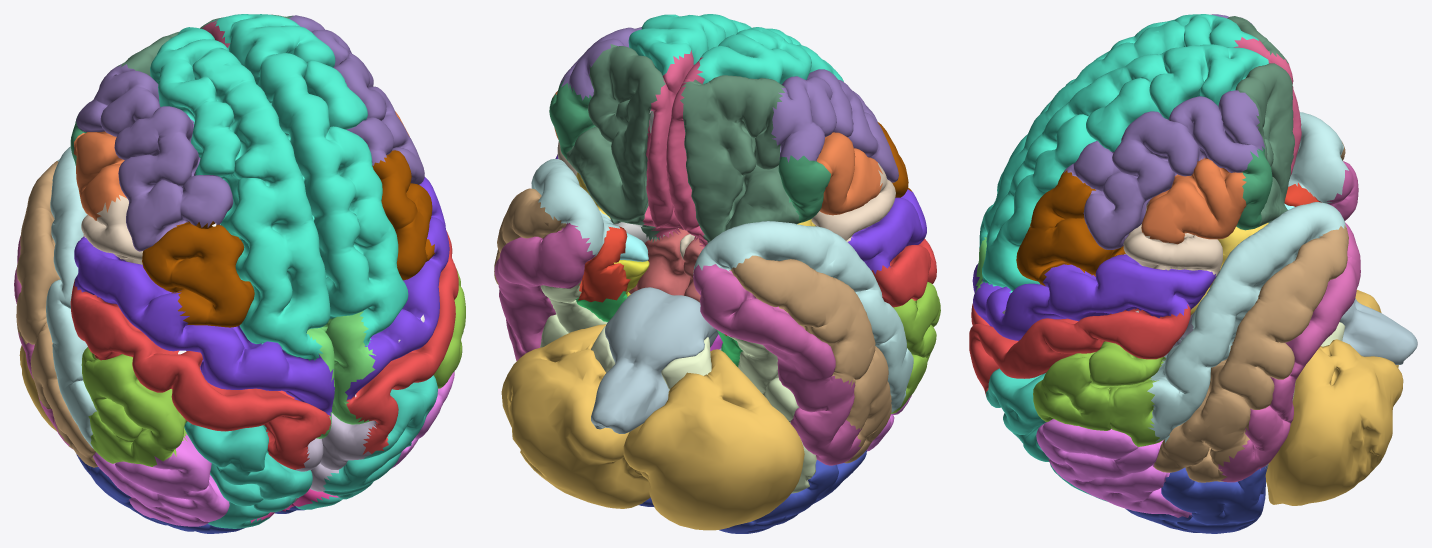
The model's file is brain.glb.
The picture shows the model from 3 angles, left to right: view 1: azimuth 30°, elevation 25°; view 2: azimuth 150°, elevation 25°; view 3: azimuth 270°, elevation 25°; orthographic projection.
Parts seen in each view (by area): view 1: ctx-lh-superiorfrontal, ctx-rh-superiorfrontal, ctx-lh-rostralmiddlefrontal, ctx-lh-precentral, ctx-lh-postcentral, ctx-lh-caudalmiddlefrontal, ctx-lh-supramarginal, ctx-lh-middletemporal, ctx-lh-superiorparietal, ctx-lh-superiortemporal, ctx-lh-inferiorparietal, ctx-rh-postcentral (+15 smaller); view 2: Left-Cerebellum-Cortex, Right-Cerebellum-Cortex, ctx-lh-lateralorbitofrontal, ctx-lh-inferiortemporal, ctx-lh-middletemporal, ctx-rh-lateralorbitofrontal, Brain-Stem, ctx-lh-superiortemporal, ctx-lh-rostralmiddlefrontal, ctx-rh-inferiortemporal, ctx-lh-superiorfrontal, ctx-rh-superiorfrontal (+24 smaller); view 3: ctx-rh-superiorfrontal, ctx-rh-middletemporal, Right-Cerebellum-Cortex, ctx-rh-rostralmiddlefrontal, ctx-rh-superiortemporal, ctx-rh-precentral, ctx-rh-postcentral, ctx-rh-supramarginal, ctx-rh-inferiorparietal, ctx-rh-inferiortemporal, ctx-lh-superiorfrontal, ctx-rh-parstriangularis (+13 smaller).
Boxes of the visible parts, left/top/right/bottom form: ctx-lh-superiorfrontal: left=150, top=27, right=330, bottom=360; ctx-rh-superiorfrontal: left=212, top=14, right=408, bottom=346; ctx-lh-rostralmiddlefrontal: left=76, top=64, right=233, bottom=251; ctx-lh-precentral: left=74, top=236, right=334, bottom=415; ctx-lh-postcentral: left=70, top=279, right=330, bottom=469; ctx-lh-caudalmiddlefrontal: left=142, top=221, right=254, bottom=327; ctx-lh-supramarginal: left=81, top=347, right=187, bottom=466; ctx-lh-middletemporal: left=16, top=161, right=97, bottom=467; ctx-lh-superiorparietal: left=184, top=421, right=312, bottom=528; ctx-lh-superiortemporal: left=46, top=146, right=96, bottom=448; ctx-lh-inferiorparietal: left=93, top=433, right=229, bottom=526; ctx-rh-postcentral: left=346, top=230, right=458, bottom=454; Left-Cerebellum-Cortex: left=623, top=349, right=804, bottom=530; Right-Cerebellum-Cortex: left=501, top=324, right=650, bottom=508; ctx-lh-lateralorbitofrontal: left=680, top=75, right=799, bottom=242; ctx-lh-inferiortemporal: left=693, top=264, right=862, bottom=465; ctx-lh-middletemporal: left=729, top=255, right=891, bottom=463; ctx-rh-lateralorbitofrontal: left=566, top=44, right=665, bottom=242; Brain-Stem: left=591, top=287, right=718, bottom=433; ctx-lh-superiortemporal: left=693, top=221, right=913, bottom=412; ctx-lh-rostralmiddlefrontal: left=771, top=69, right=898, bottom=182; ctx-rh-inferiortemporal: left=494, top=222, right=595, bottom=360; ctx-lh-superiorfrontal: left=697, top=27, right=843, bottom=84; ctx-rh-superiorfrontal: left=628, top=14, right=751, bottom=75; ctx-rh-superiorfrontal: left=982, top=44, right=1268, bottom=292; ctx-rh-middletemporal: left=1153, top=225, right=1348, bottom=482; Right-Cerebellum-Cortex: left=1265, top=339, right=1403, bottom=505; ctx-rh-rostralmiddlefrontal: left=1064, top=90, right=1264, bottom=249; ctx-rh-superiortemporal: left=1147, top=202, right=1346, bottom=442; ctx-rh-precentral: left=973, top=254, right=1216, bottom=340; ctx-rh-postcentral: left=969, top=304, right=1190, bottom=396; ctx-rh-supramarginal: left=1033, top=341, right=1165, bottom=446; ctx-rh-inferiorparietal: left=1036, top=419, right=1191, bottom=517; ctx-rh-inferiortemporal: left=1218, top=222, right=1360, bottom=482; ctx-lh-superiorfrontal: left=979, top=14, right=1258, bottom=247; ctx-rh-parstriangularis: left=1141, top=157, right=1246, bottom=244.
Bounding box in the file's own units: 144 × 181 × 154.
